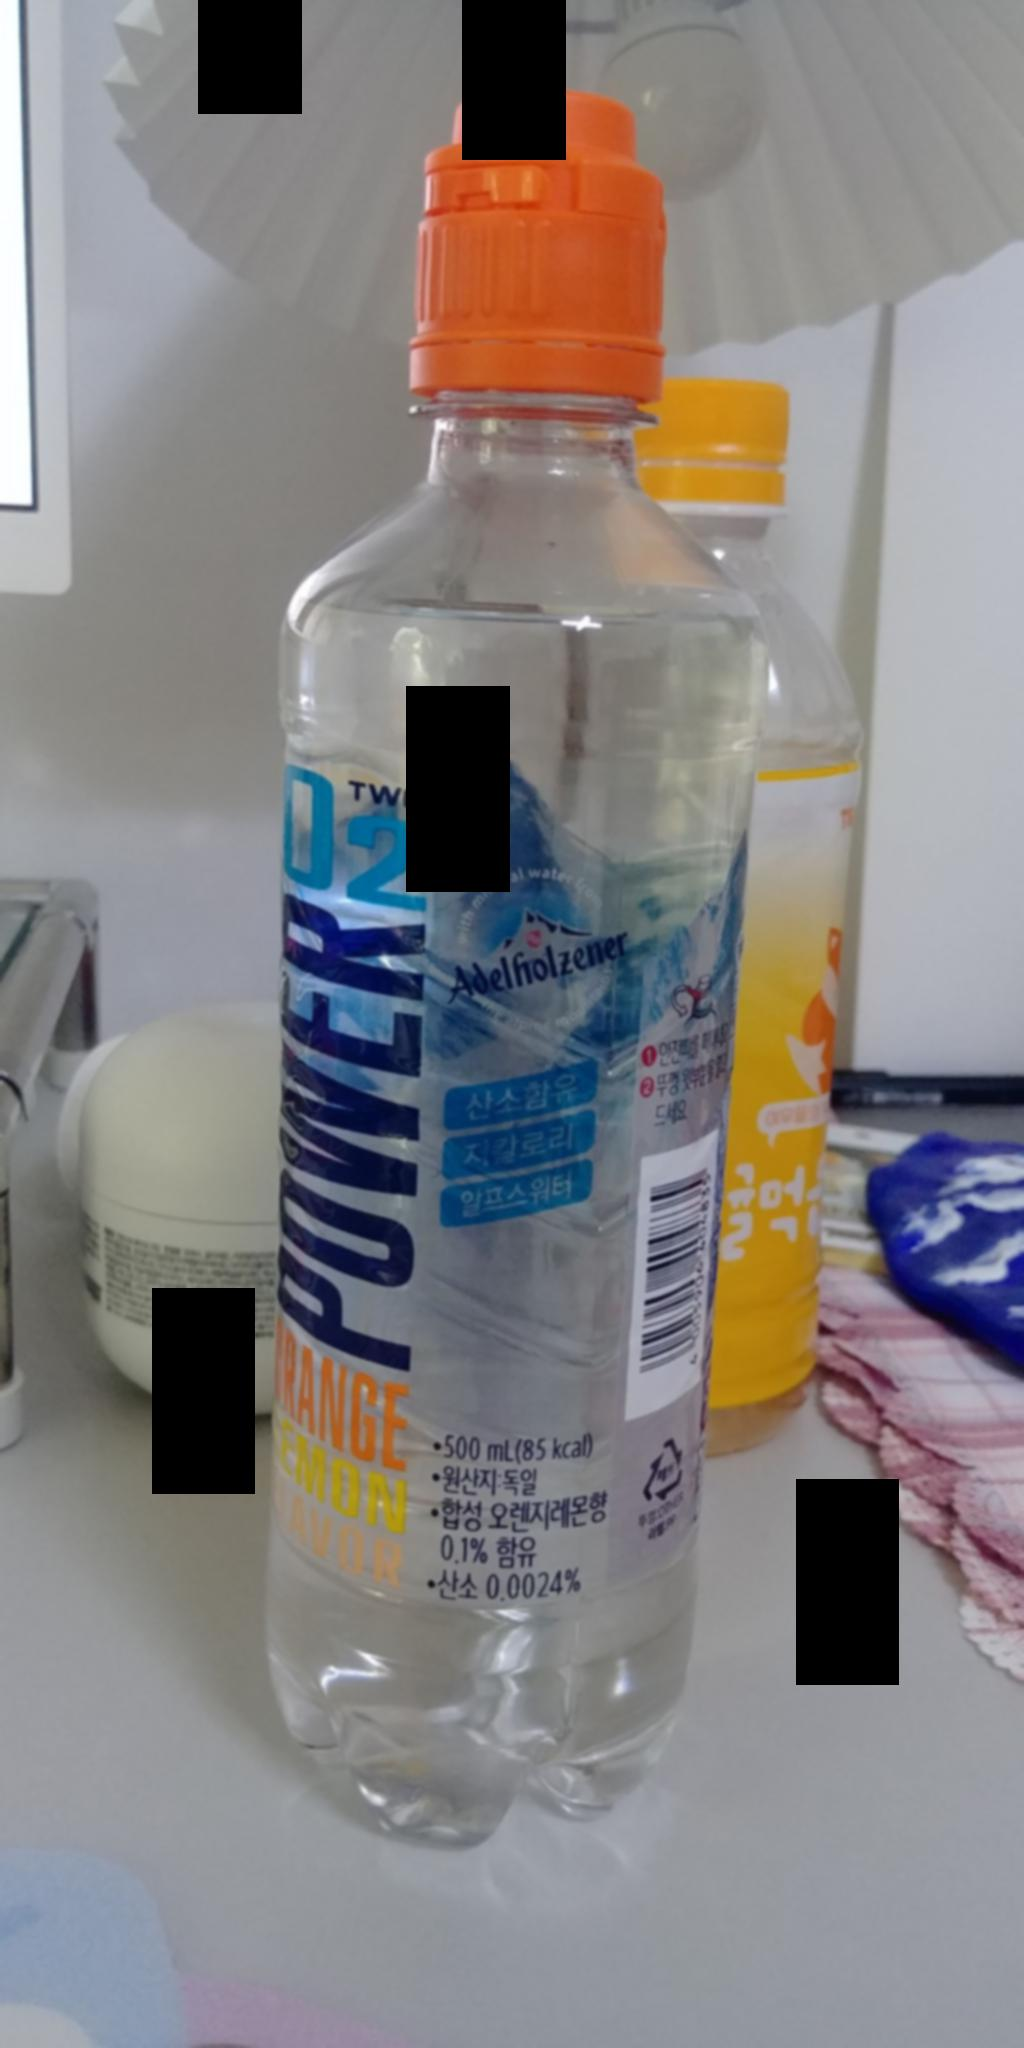powerO2_orange: (229, 73, 741, 1851)
